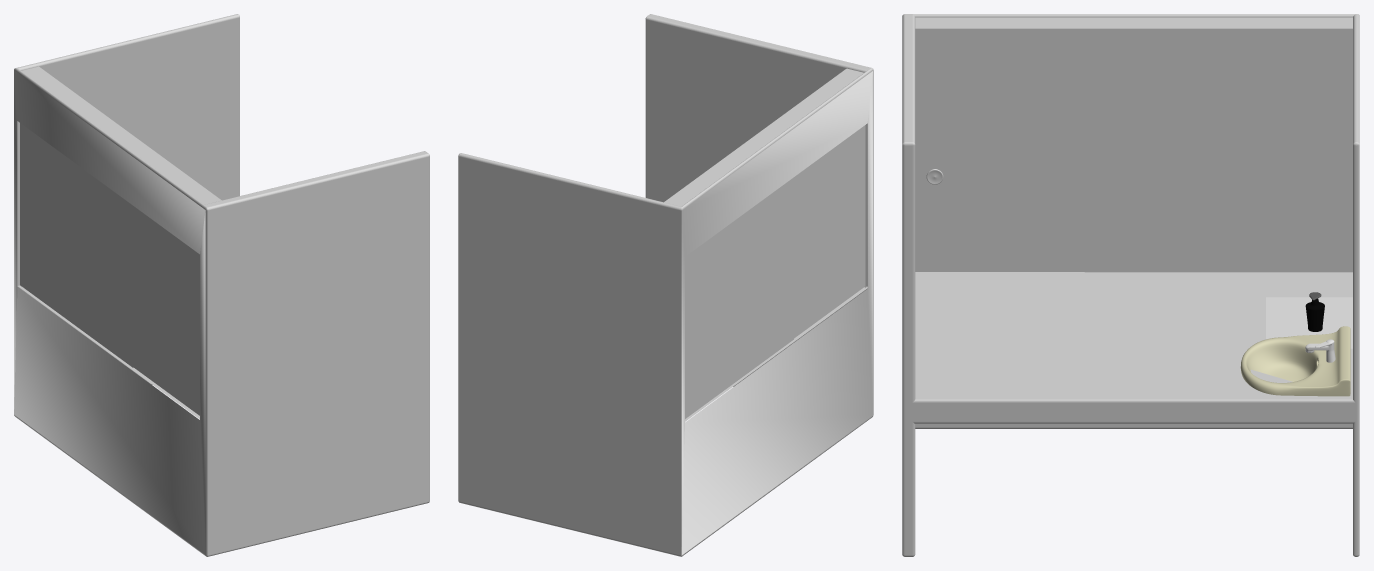
The model's file is stand.fbx.
The picture shows the model from 3 angles, left to right: view 1: azimuth 30°, elevation 25°; view 2: azimuth 150°, elevation 25°; view 3: azimuth 270°, elevation 25°; orthographic projection. The views are drawn at different scales.
Parts seen in each view (by area): view 1: Cube, handle; view 2: Cube, handle; view 3: Cube, handle, Cylinder04_Geo_3, Plane.
Boxes of the visible parts, left/top/right/bottom form: Cube: left=14, top=14, right=429, bottom=556; handle: left=133, top=206, right=199, bottom=415; Cube: left=458, top=14, right=873, bottom=556; handle: left=794, top=125, right=864, bottom=338; Cube: left=902, top=14, right=1359, bottom=556; handle: left=915, top=86, right=1136, bottom=271; Cylinder04_Geo_3: left=1240, top=326, right=1350, bottom=396; Plane: left=1266, top=297, right=1352, bottom=348.
Size of the model in its own units: 134 by 200 by 200.
